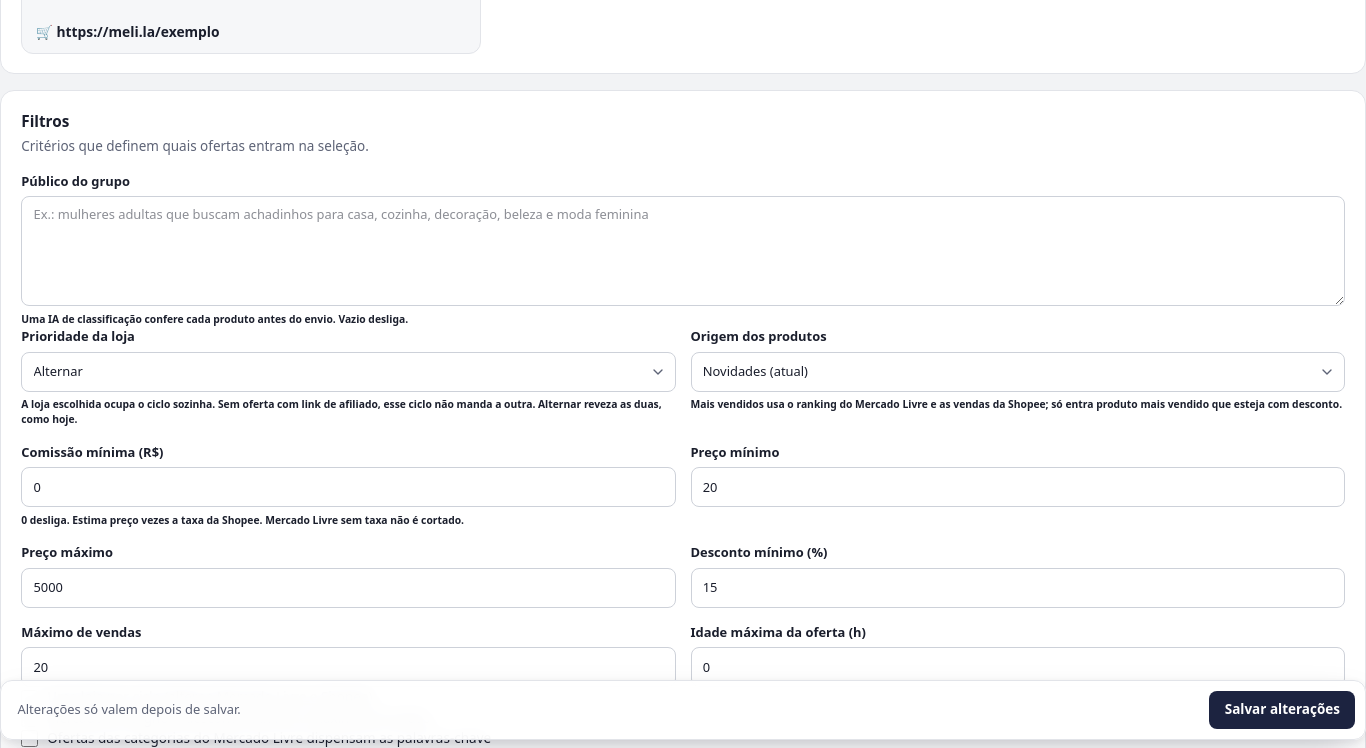
configura origem e vendas mínimas sem alterar o padrão dos bots existentes
(page scrolled)
Check: the field labelled "Vendas mínimas (Shopee)" is not shown
Select "Mais vendidos" in the dropdown labelled "Origem dos produtos": (1018, 372) left=690, top=352, right=1345, bottom=392
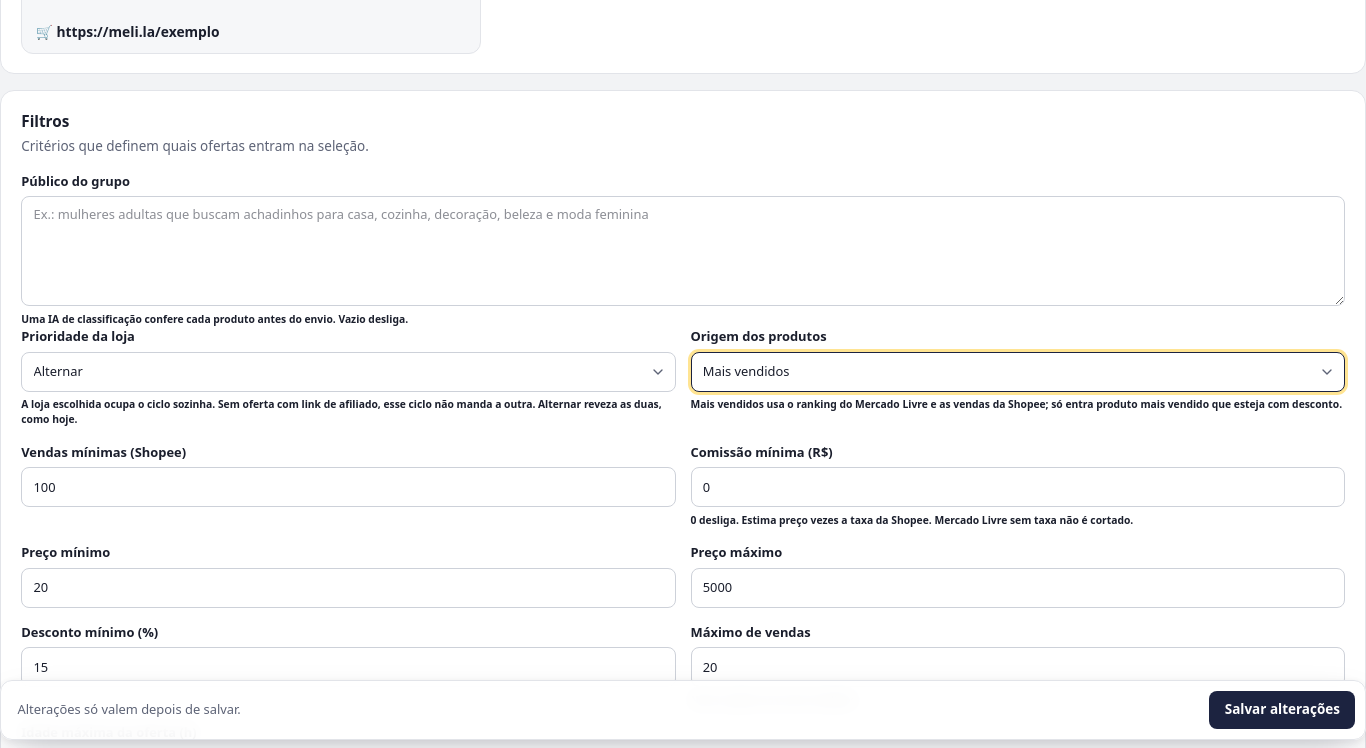
Check: the number field labelled "Vendas mínimas (Shopee)" holds "100"
Replace the text in the number field labelled "Vendas mínimas (Shopee)" with "250": (348, 487) left=21, top=467, right=676, bottom=507
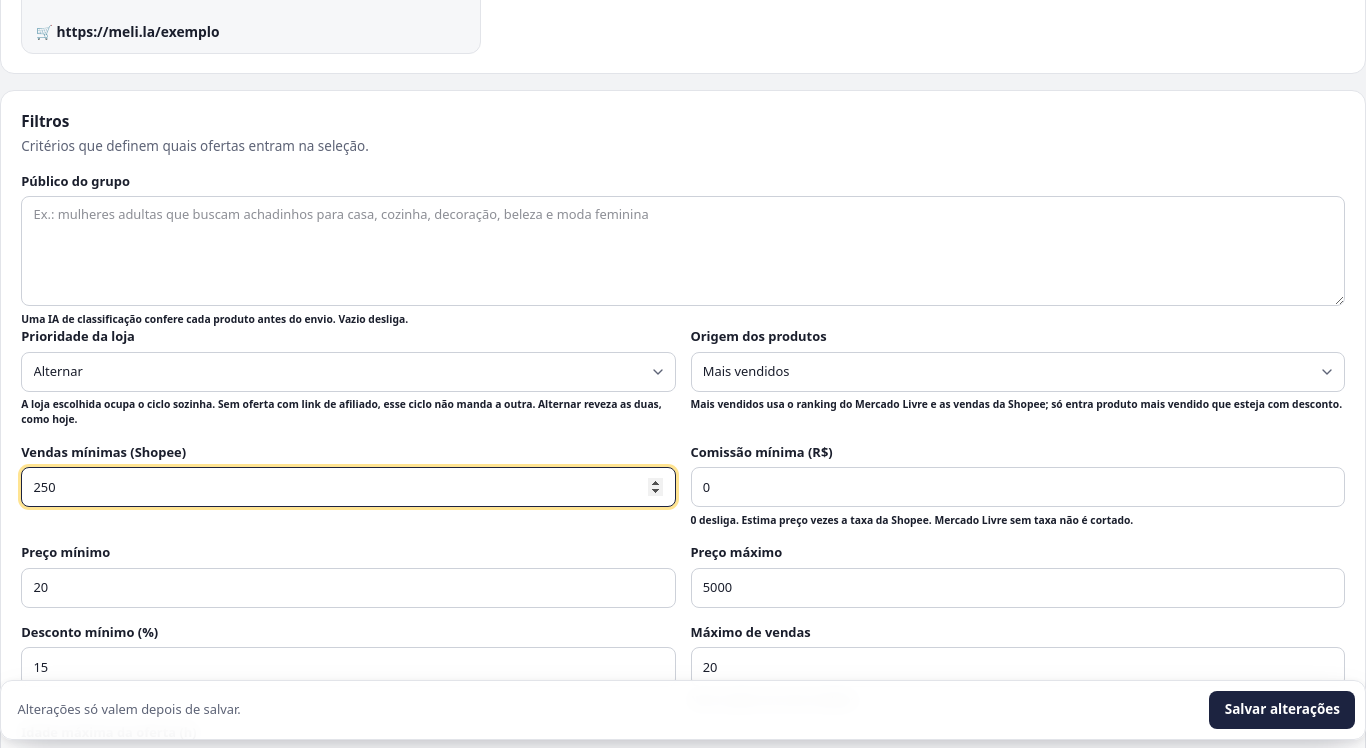
Select "Novidades e mais vendidos" in the dropdown labelled "Origem dos produtos": (1018, 372) left=690, top=352, right=1345, bottom=392
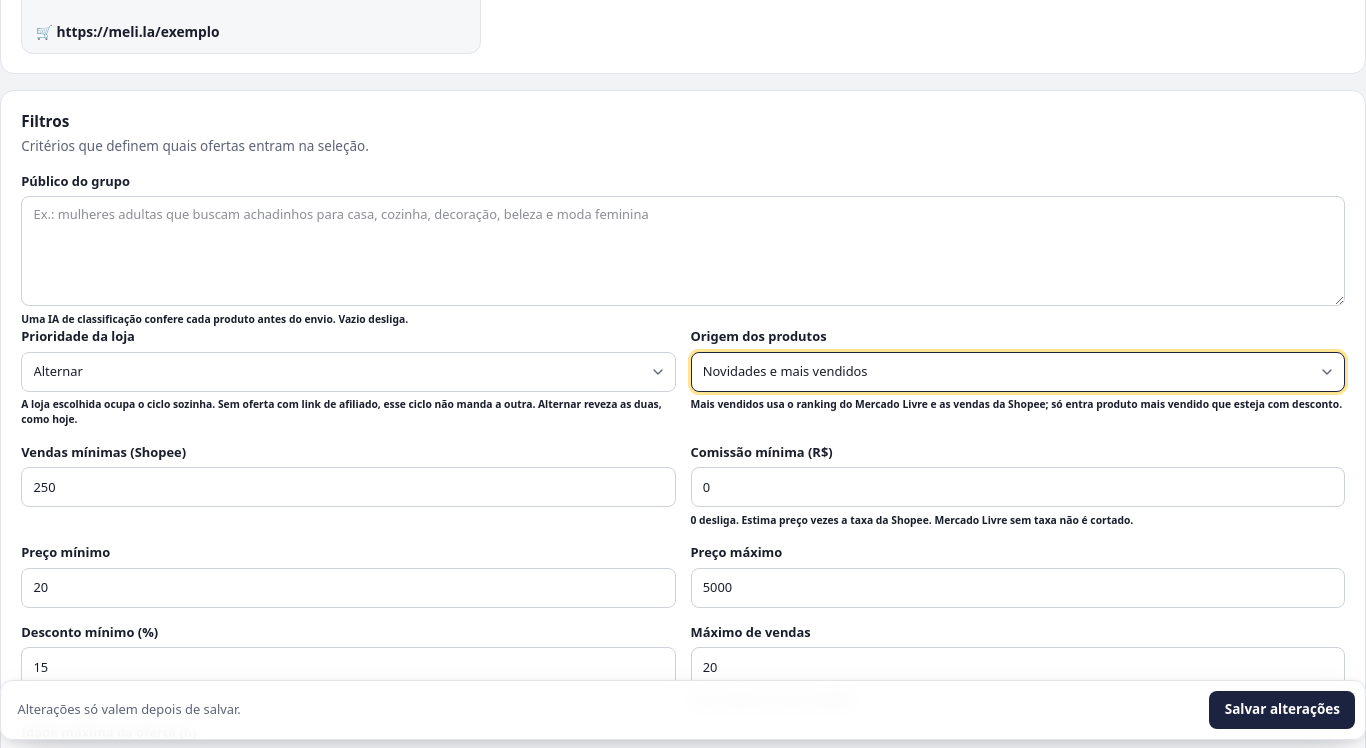
Click the button "Salvar alterações": (1282, 710) left=1210, top=691, right=1355, bottom=729
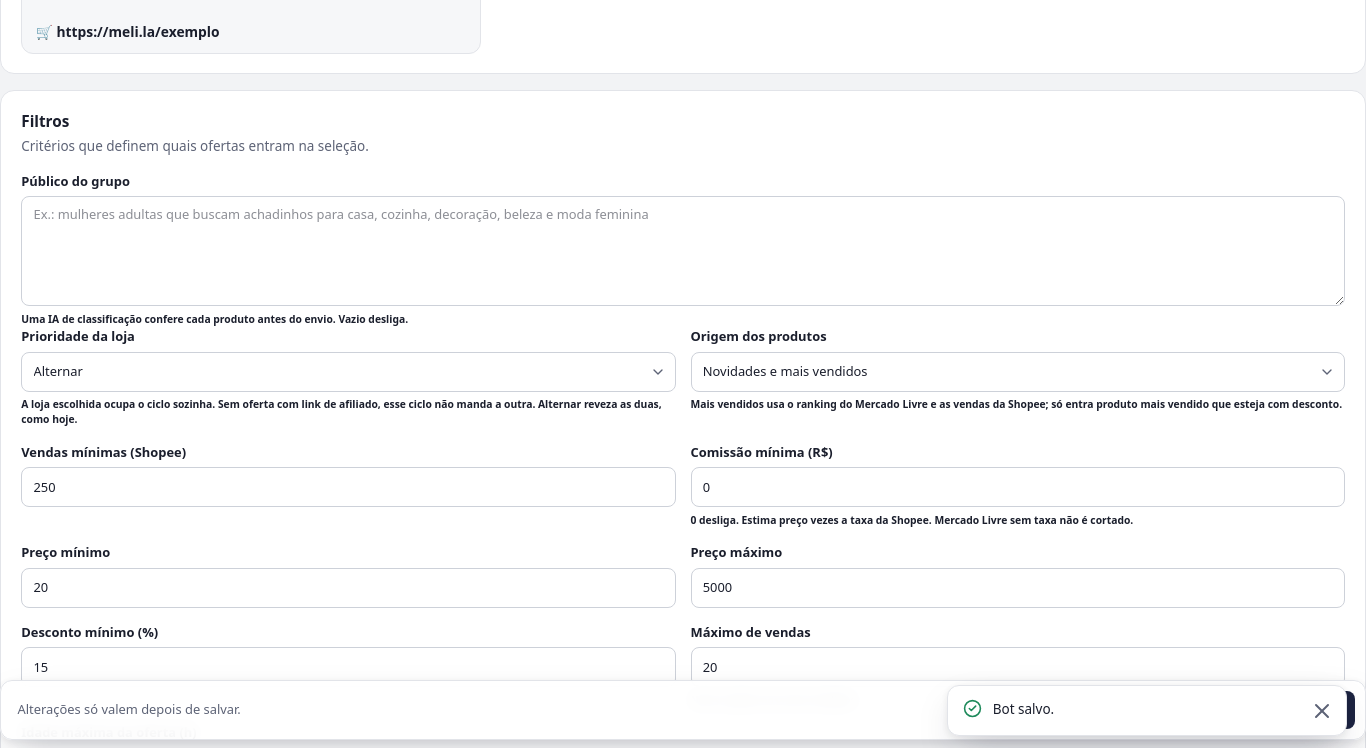
Check: the text "Bot salvo." is shown, box left=993, top=700, right=1054, bottom=718
